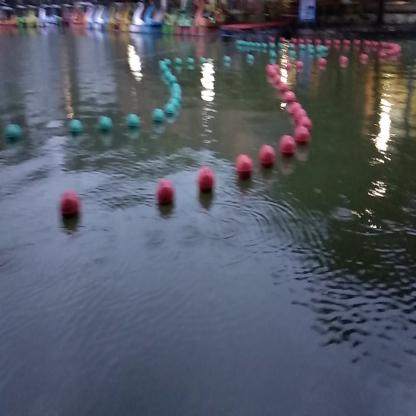green_buoy: (99, 115, 113, 136), (126, 115, 140, 134), (6, 122, 20, 140), (153, 108, 165, 126), (69, 120, 82, 136), (165, 106, 176, 117)
red_buoy: (61, 191, 80, 225), (237, 154, 254, 180), (158, 184, 174, 208), (281, 133, 295, 159), (200, 170, 214, 196), (295, 126, 311, 148), (260, 147, 275, 169), (291, 106, 306, 122), (300, 116, 313, 134)
